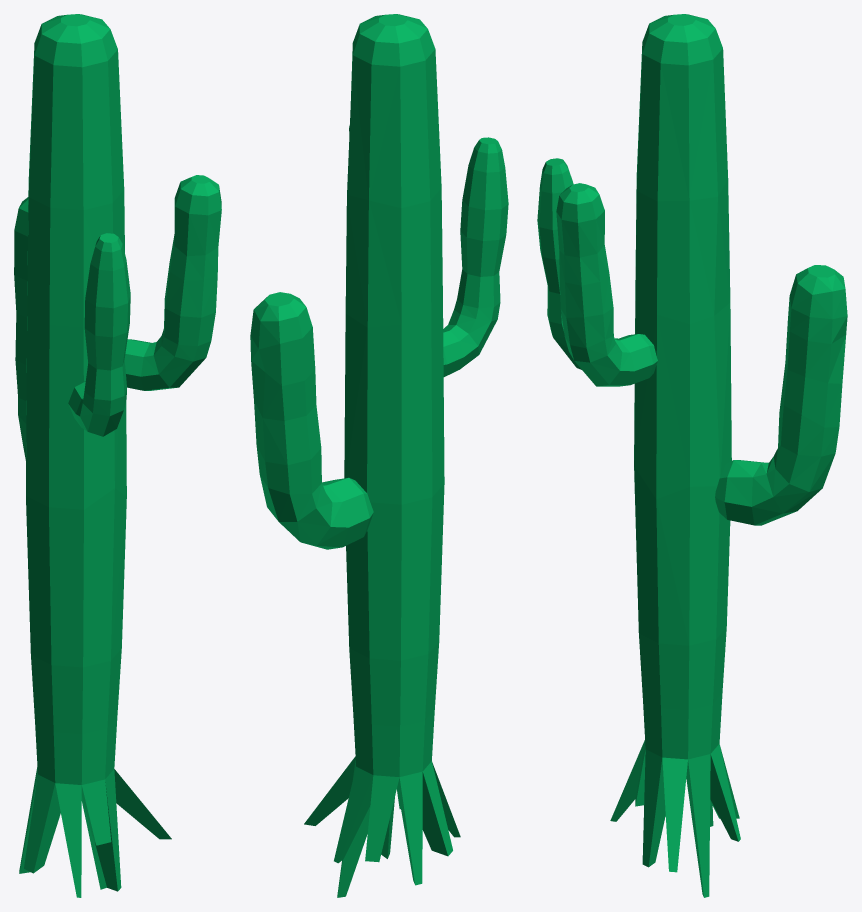
The model's file is SeguaroCactusLarge3_LOD0.fbx.
The picture shows the model from 3 angles, left to right: view 1: azimuth 30°, elevation 25°; view 2: azimuth 150°, elevation 25°; view 3: azimuth 270°, elevation 25°; orthographic projection. The views are drawn at different scales.
Parts seen in each view (by area): view 1: SeguaroCactusLarge3_LOD0; view 2: SeguaroCactusLarge3_LOD0; view 3: SeguaroCactusLarge3_LOD0.
Part boxes in pixels (box(x1,y1,x2,y2)): SeguaroCactusLarge3_LOD0: box(14, 14, 221, 897); SeguaroCactusLarge3_LOD0: box(250, 14, 508, 897); SeguaroCactusLarge3_LOD0: box(537, 14, 847, 897).
Size of the model in its own units: 204 by 622 by 108.
